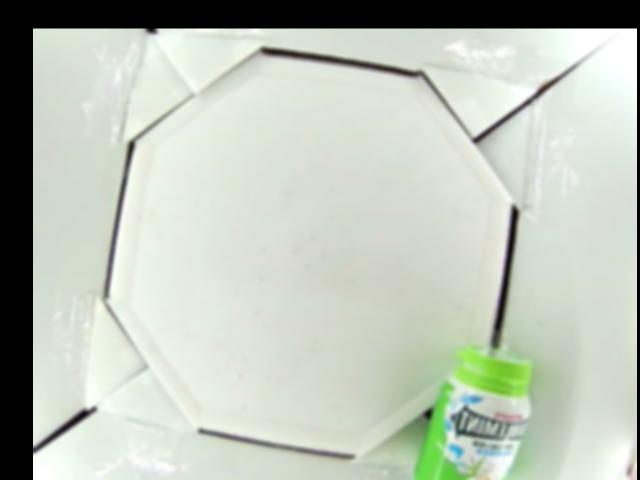Bottle: (407, 341, 535, 480)
